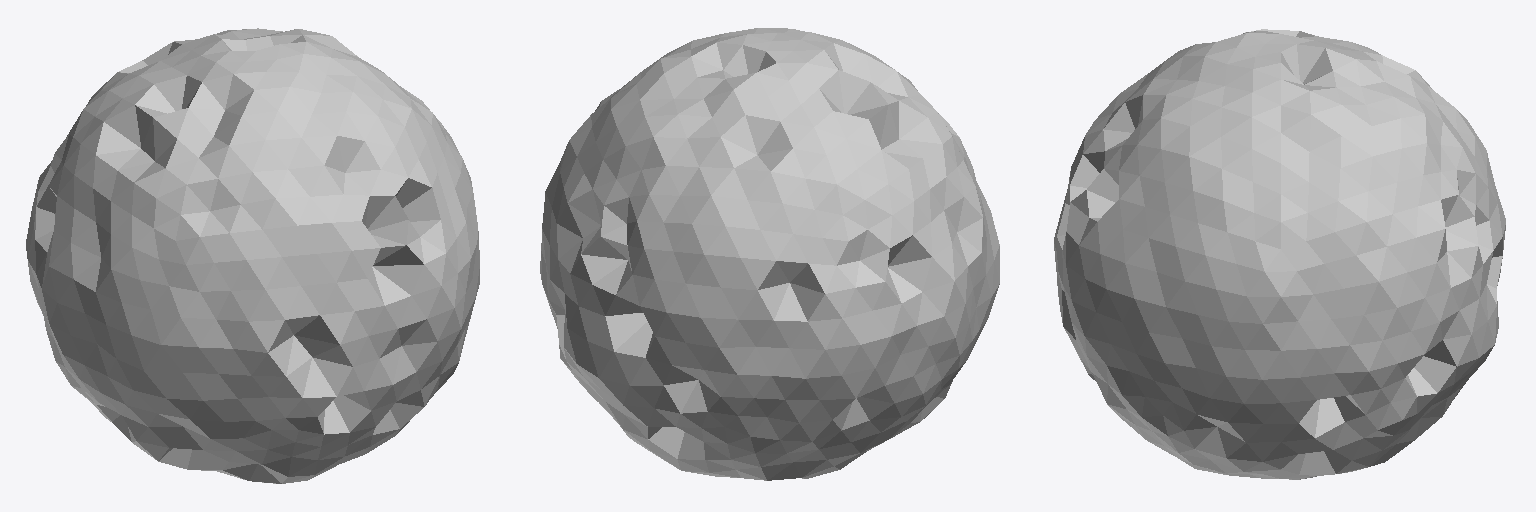
Rendered from planet01.obj.
The picture shows the model from 3 angles: view 1: azimuth 30°, elevation 25°; view 2: azimuth 150°, elevation 25°; view 3: azimuth 270°, elevation 25°; orthographic projection.
Visible parts, largest first — view 1: Icosphere.004; view 2: Icosphere.004; view 3: Icosphere.004.
Part boxes in pixels (x1,y1,x2,y2): Icosphere.004: (26,28,479,483); Icosphere.004: (540,28,999,480); Icosphere.004: (1054,29,1505,479).
Bounding box in the file's own units: 2.02 × 2.01 × 2.01.